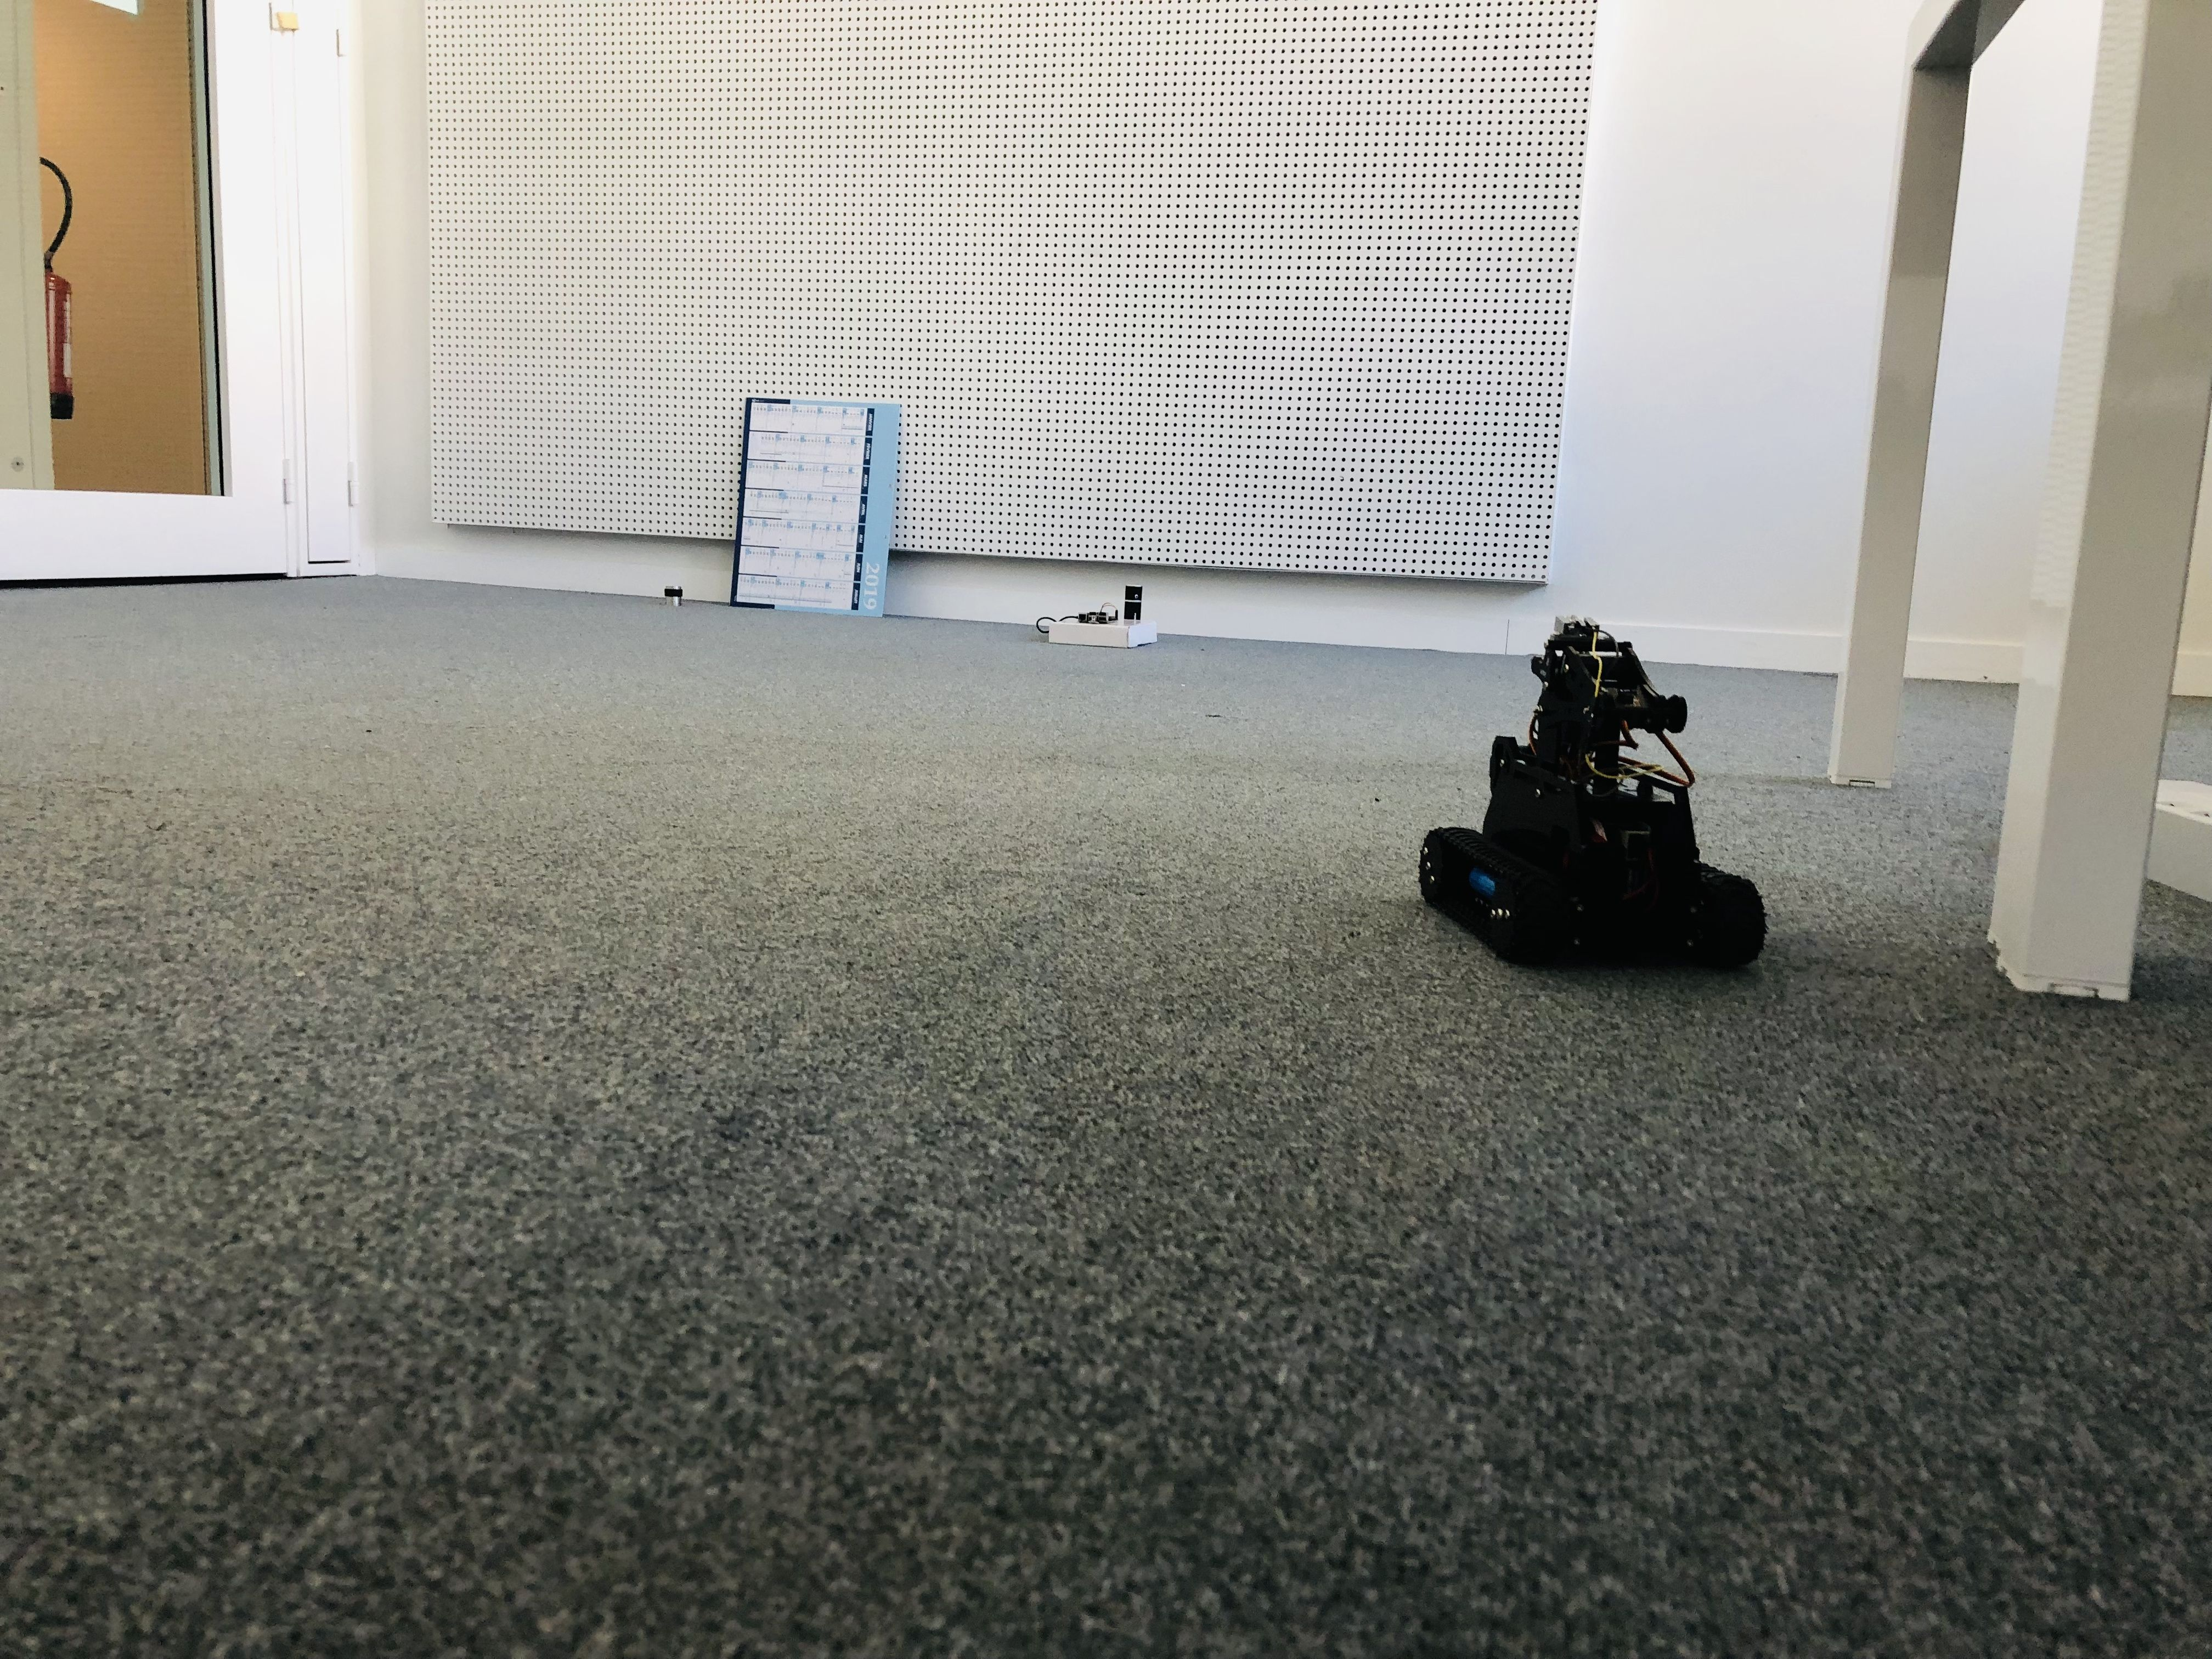rasptank: (1420, 605, 1770, 971)
